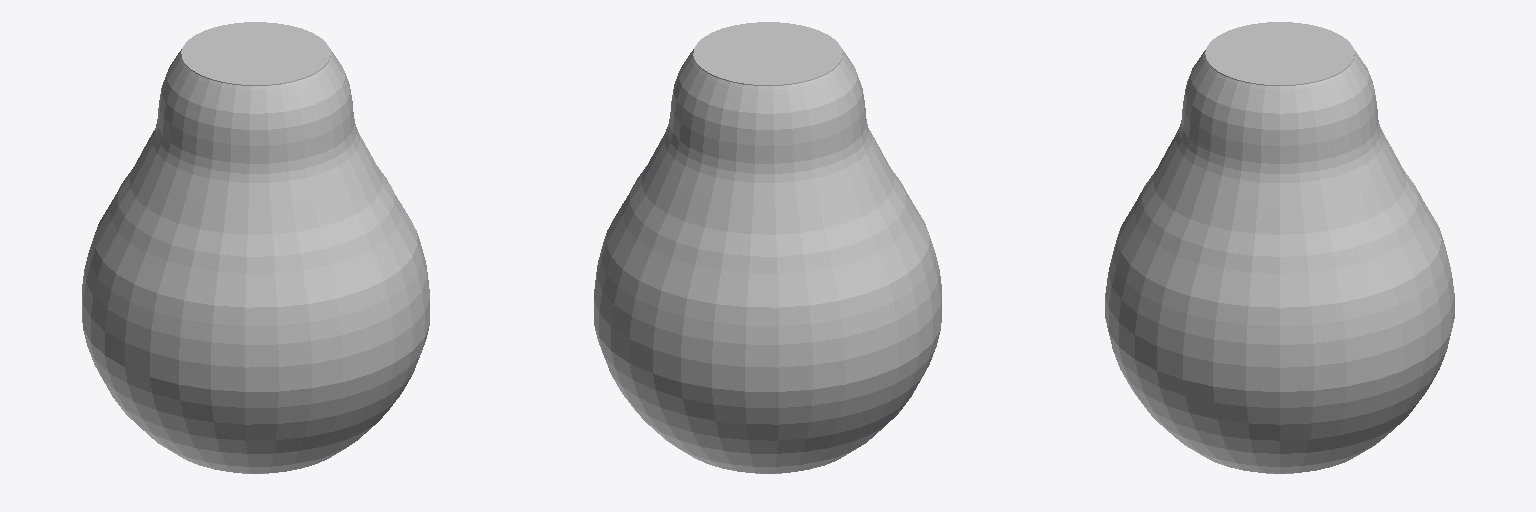
File: bulbGlass.obj
The picture shows the model from 3 angles: view 1: azimuth 30°, elevation 25°; view 2: azimuth 150°, elevation 25°; view 3: azimuth 270°, elevation 25°; orthographic projection.
Bounding box in the file's own units: 0.3467 × 0.4433 × 0.3467.